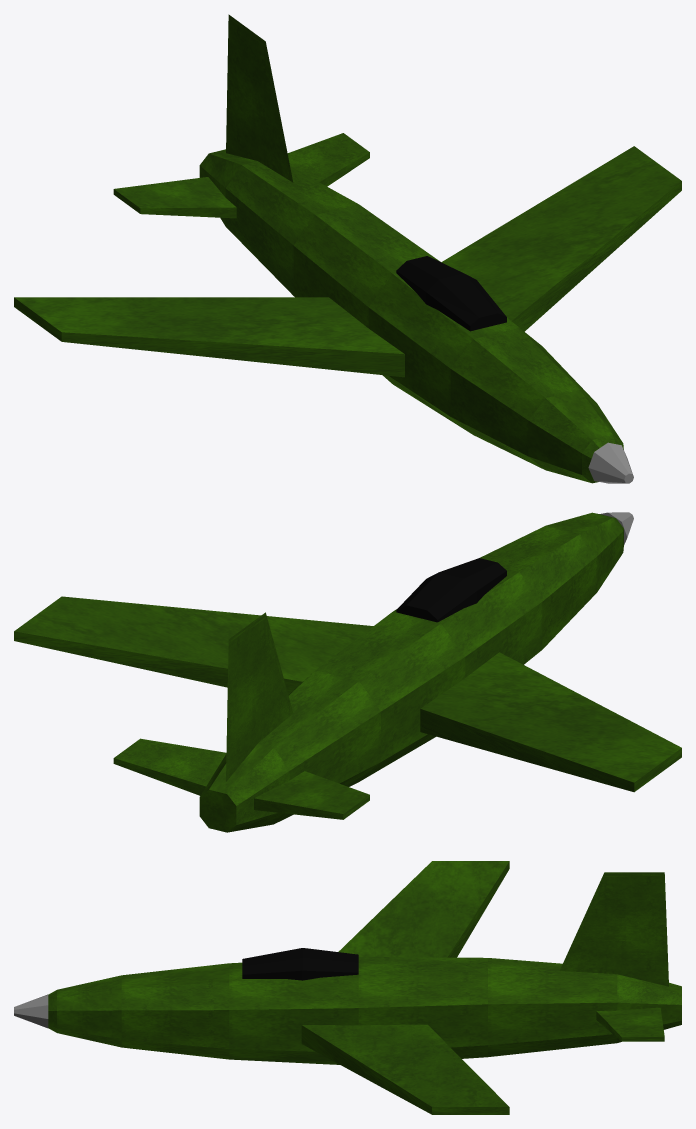
Rendered from plane_lancet.obj.
3 views of the same model, one above another, from view 1: azimuth 30°, elevation 25°; view 2: azimuth 150°, elevation 25°; view 3: azimuth 270°, elevation 25° (orthographic). The views are drawn at different scales.
Parts seen in each view (by area): view 1: plane_lancet; view 2: plane_lancet; view 3: plane_lancet.
Boxes of the visible parts, x1,y1,x2,y2 form: plane_lancet: [14, 14, 681, 483]; plane_lancet: [14, 512, 681, 832]; plane_lancet: [14, 861, 681, 1114].
Size of the model in its own units: 27 by 9.42 by 31.
